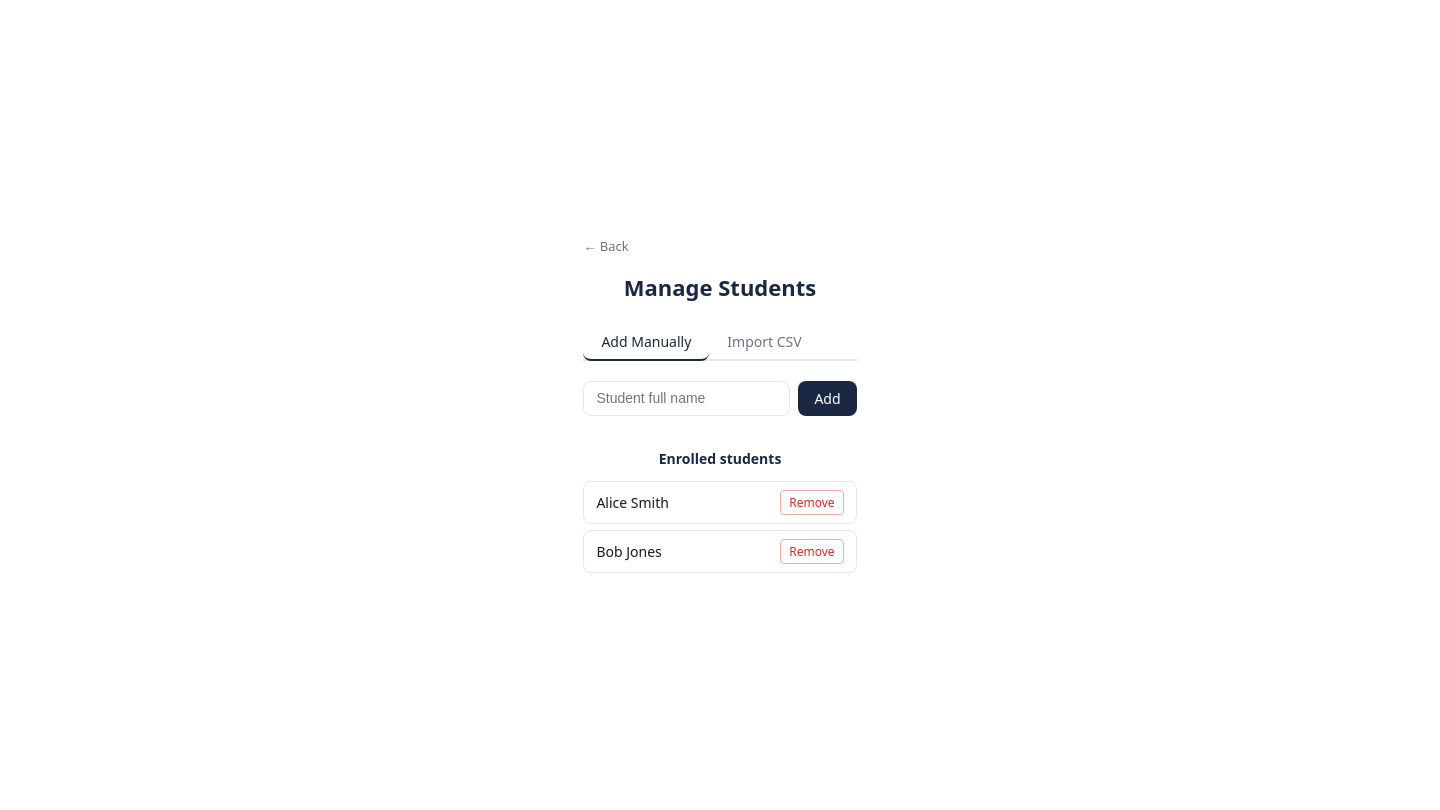
Test: CourseStudentsView › clicking remove opens the confirmation modal
Click the button with test id "remove-student-10". click: click(812, 502)
box: [780,490,844,515]
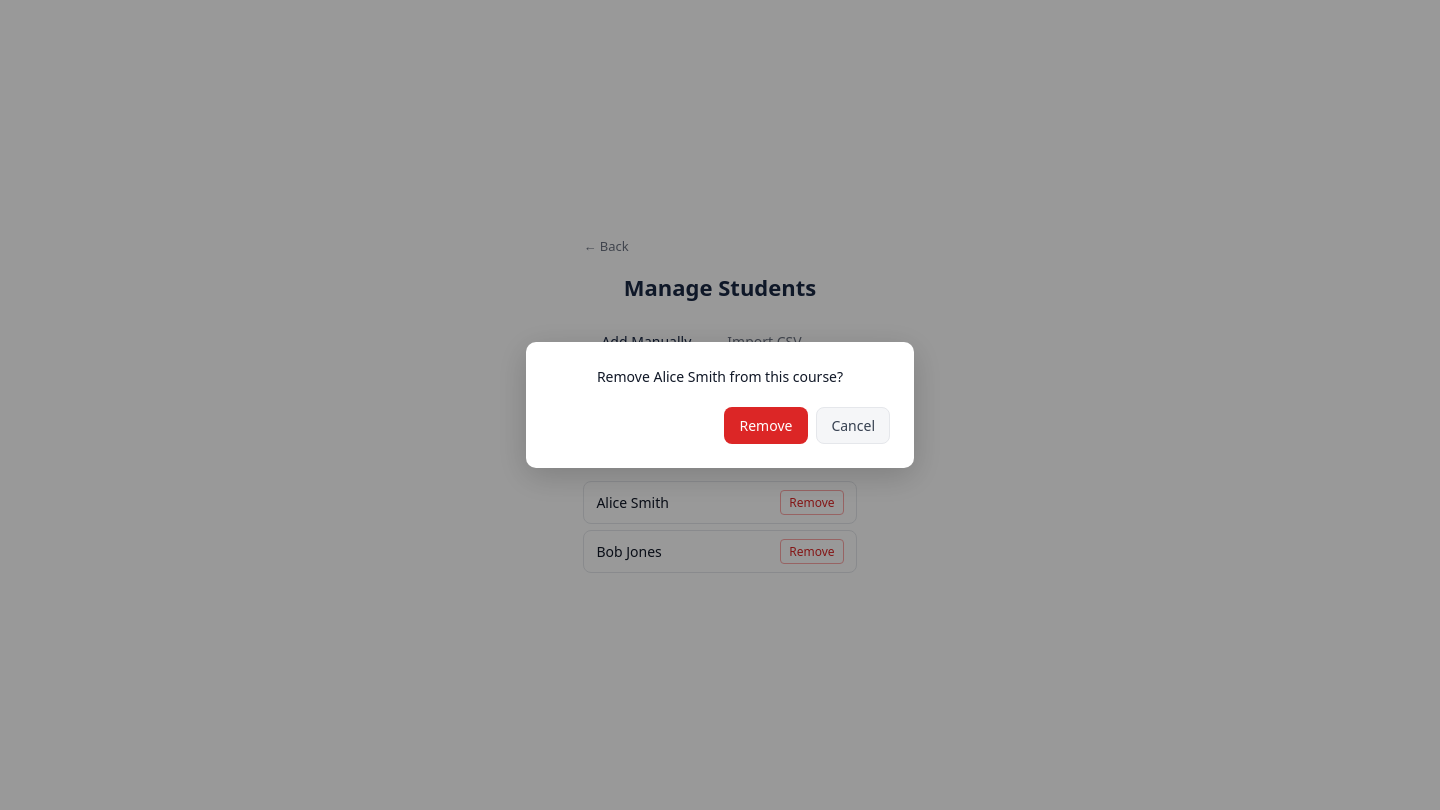
Check: the element with test id "remove-modal" is shown
Check: the element with test id "remove-modal" shows "Alice Smith", box [597,367,843,386]
